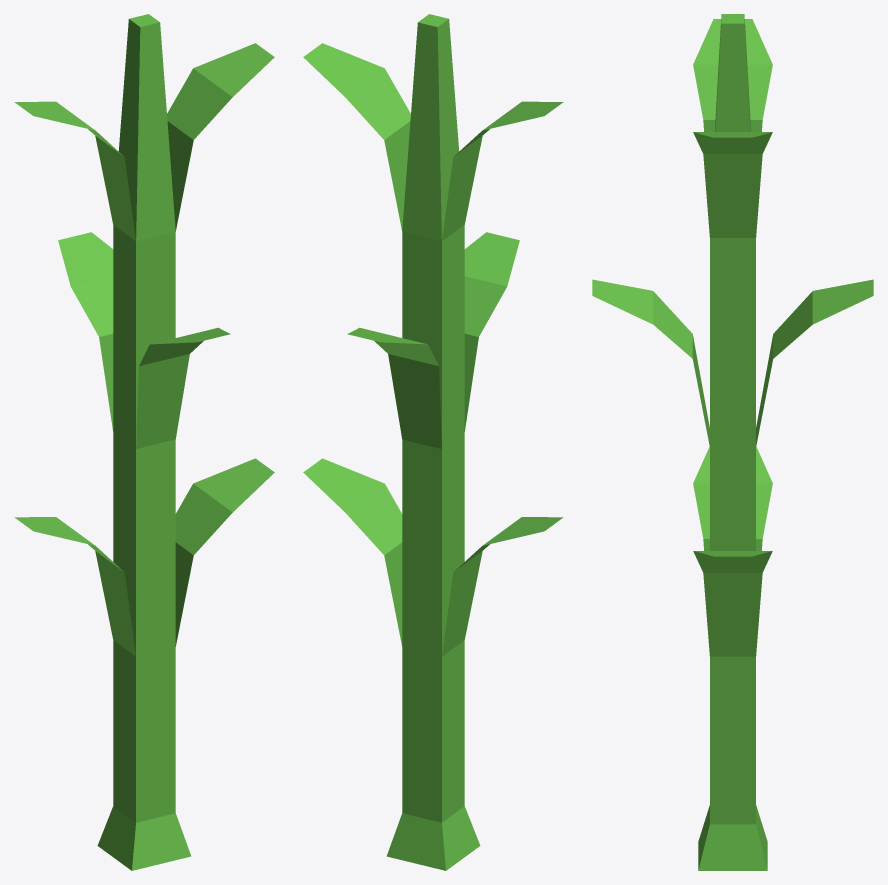
File: crops_cornStageB.glb
3 renders of one model, left to right at view 1: azimuth 30°, elevation 25°; view 2: azimuth 150°, elevation 25°; view 3: azimuth 270°, elevation 25°, orthographic.
Parts seen in each view (by area): view 1: crops_cornStageB; view 2: crops_cornStageB; view 3: crops_cornStageB.
Boxes of the visible parts, x1,y1,x2,y2 form: crops_cornStageB: (14,14,274,870); crops_cornStageB: (303,14,563,870); crops_cornStageB: (592,14,873,870).
Size of the model in its own units: 0.3042 by 1 by 0.3042.
